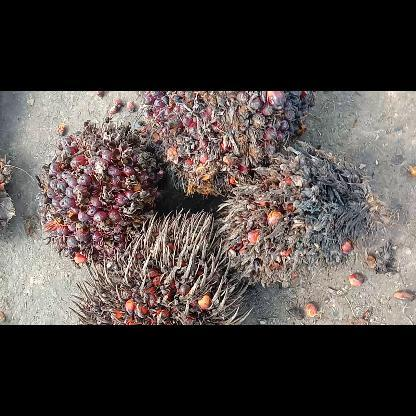TBS masak: (37, 117, 166, 265), (139, 91, 313, 195)
Terlalu masak: (217, 140, 377, 286), (69, 208, 252, 324)
